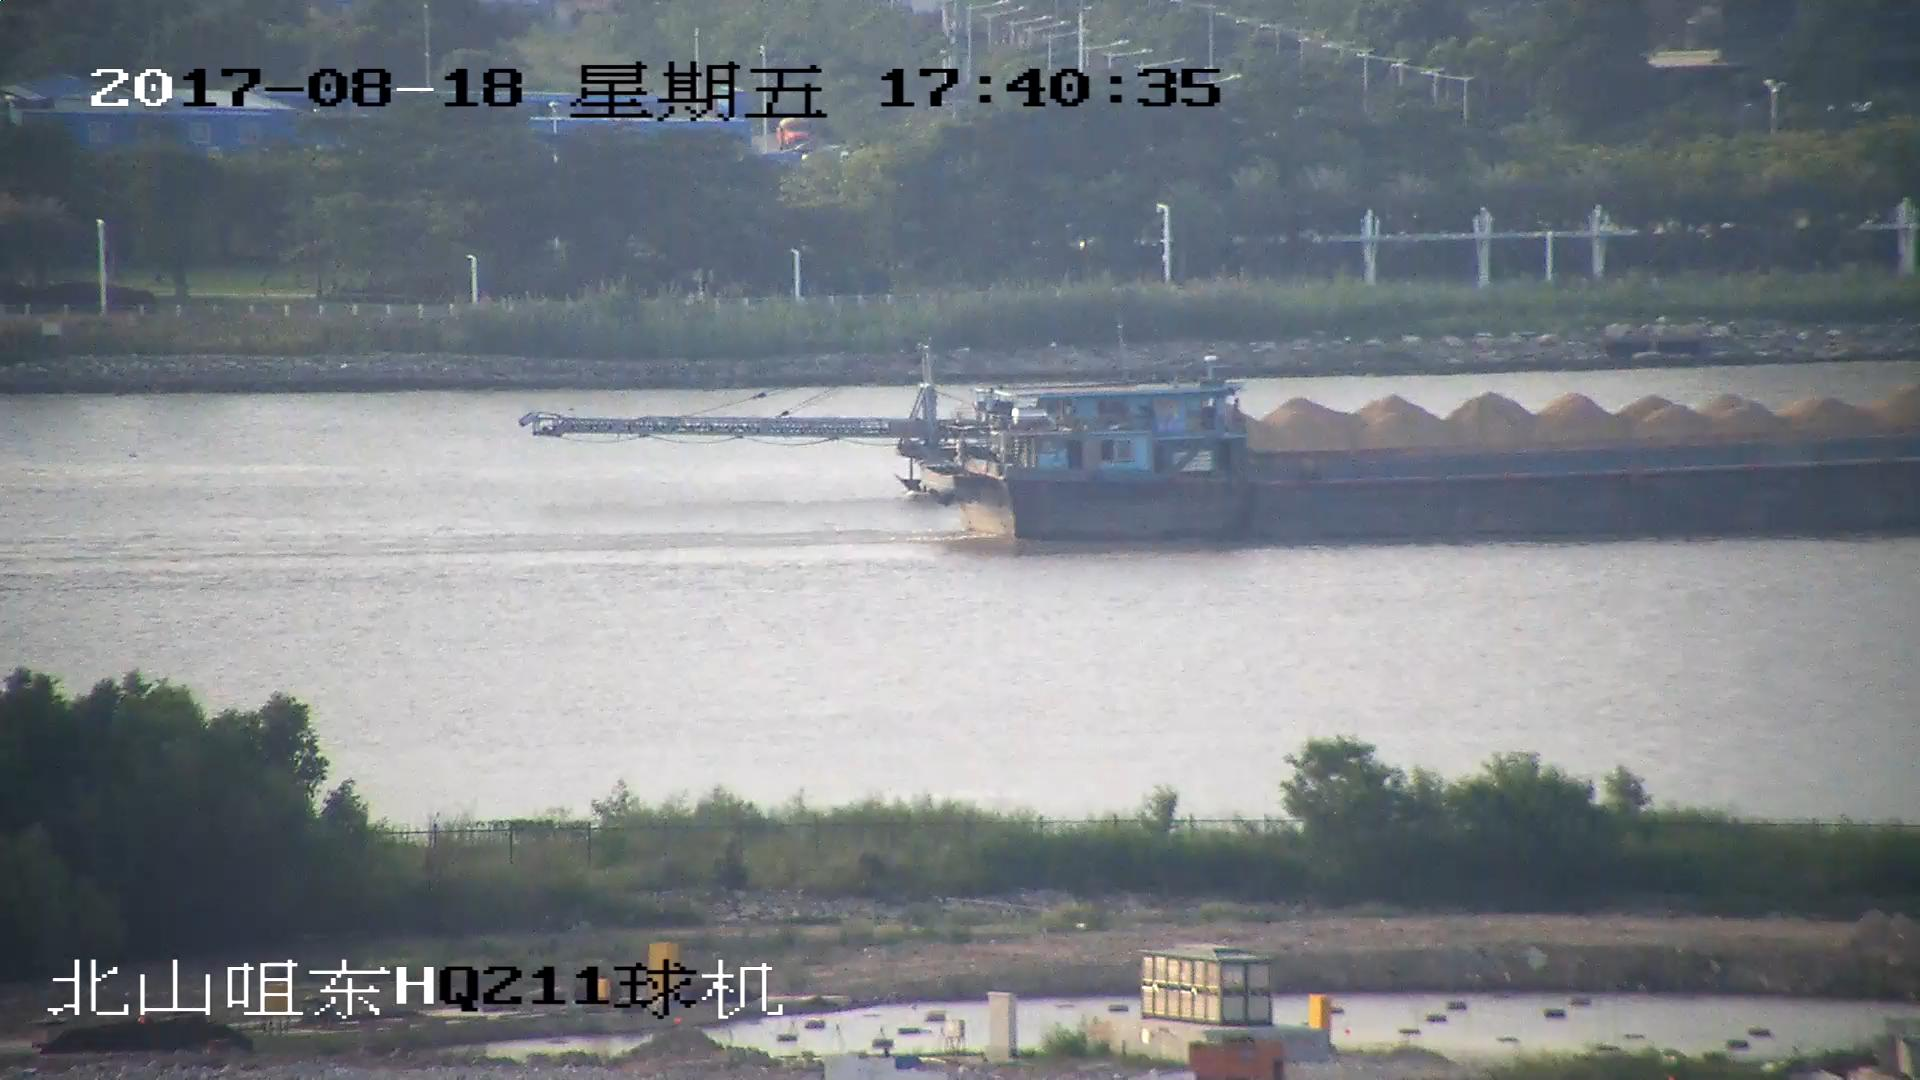bulk cargo carrier: (930, 394, 1920, 545)
ore carrier: (527, 355, 1920, 466)
